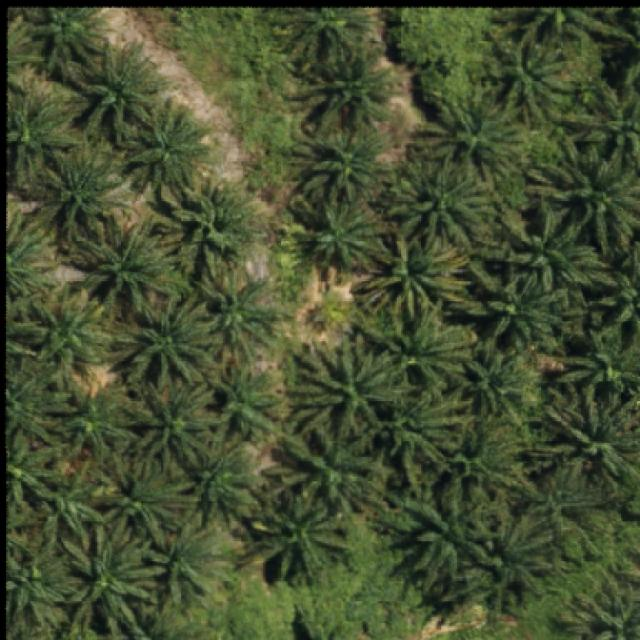Kelapa_Sawit: (290, 333, 421, 441), (70, 211, 193, 323), (61, 32, 176, 146), (57, 521, 166, 640), (402, 481, 506, 602), (368, 382, 477, 496), (259, 425, 387, 521), (528, 386, 638, 496), (498, 207, 620, 305), (415, 89, 539, 185), (281, 44, 407, 138), (387, 153, 505, 253), (150, 178, 268, 276), (34, 146, 141, 251), (368, 290, 480, 390), (358, 230, 474, 325), (114, 92, 215, 200), (480, 24, 582, 130), (116, 294, 224, 392), (243, 492, 354, 586), (95, 453, 200, 550), (186, 266, 292, 362), (468, 263, 578, 355), (18, 279, 114, 378), (295, 197, 400, 286), (131, 378, 223, 473), (478, 502, 556, 607), (183, 436, 269, 530), (298, 125, 394, 208), (30, 456, 113, 550), (199, 362, 287, 449), (148, 523, 238, 606), (54, 378, 143, 460), (462, 349, 528, 431)
